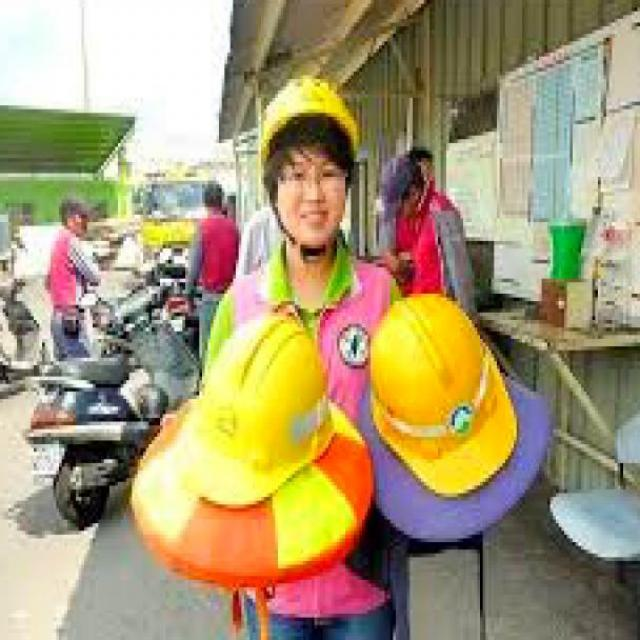helmet: (359, 263, 505, 475), (182, 286, 329, 493), (244, 64, 368, 241)
